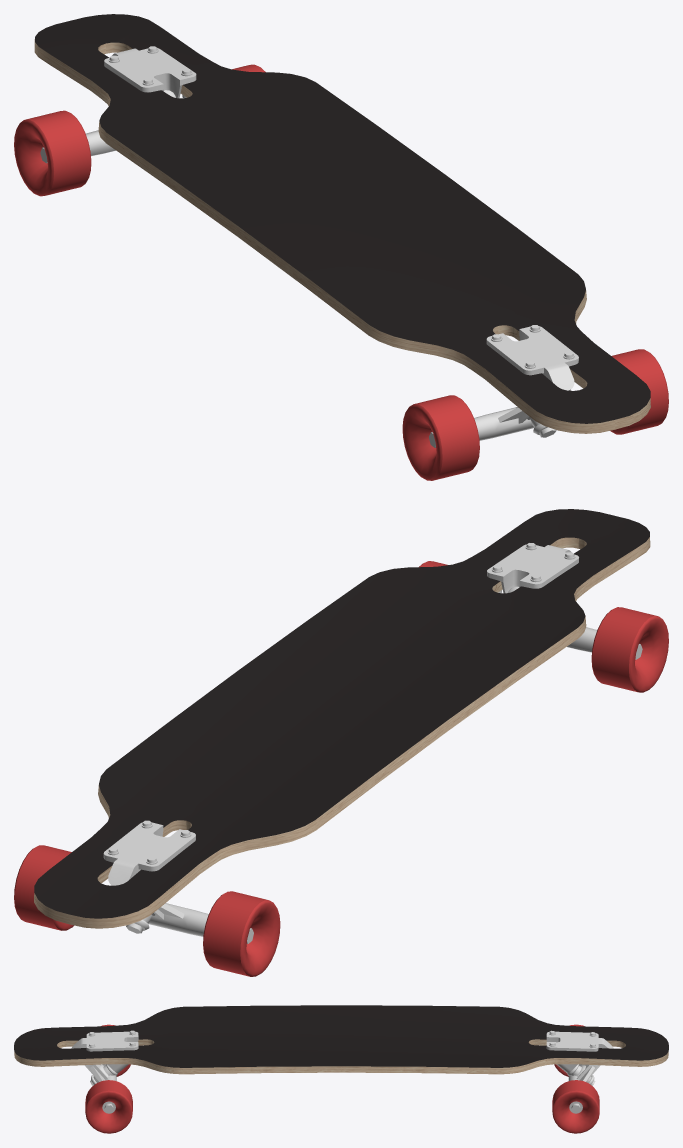
File: longboard.glb
3 renders of one model, top to bottom at view 1: azimuth 30°, elevation 25°; view 2: azimuth 150°, elevation 25°; view 3: azimuth 270°, elevation 25°, orthographic. The views are drawn at different scales.
Visible parts, largest first — view 1: Object_2; view 2: Object_2; view 3: Object_2.
Part boxes in pixels (bbox=[...]): Object_2: bbox=[14, 14, 668, 480]; Object_2: bbox=[14, 509, 668, 976]; Object_2: bbox=[14, 1005, 668, 1133].
Bounding box in the file's own units: 1.2 × 0.5419 × 4.95.
Materials: 1 (1 with a texture image).
